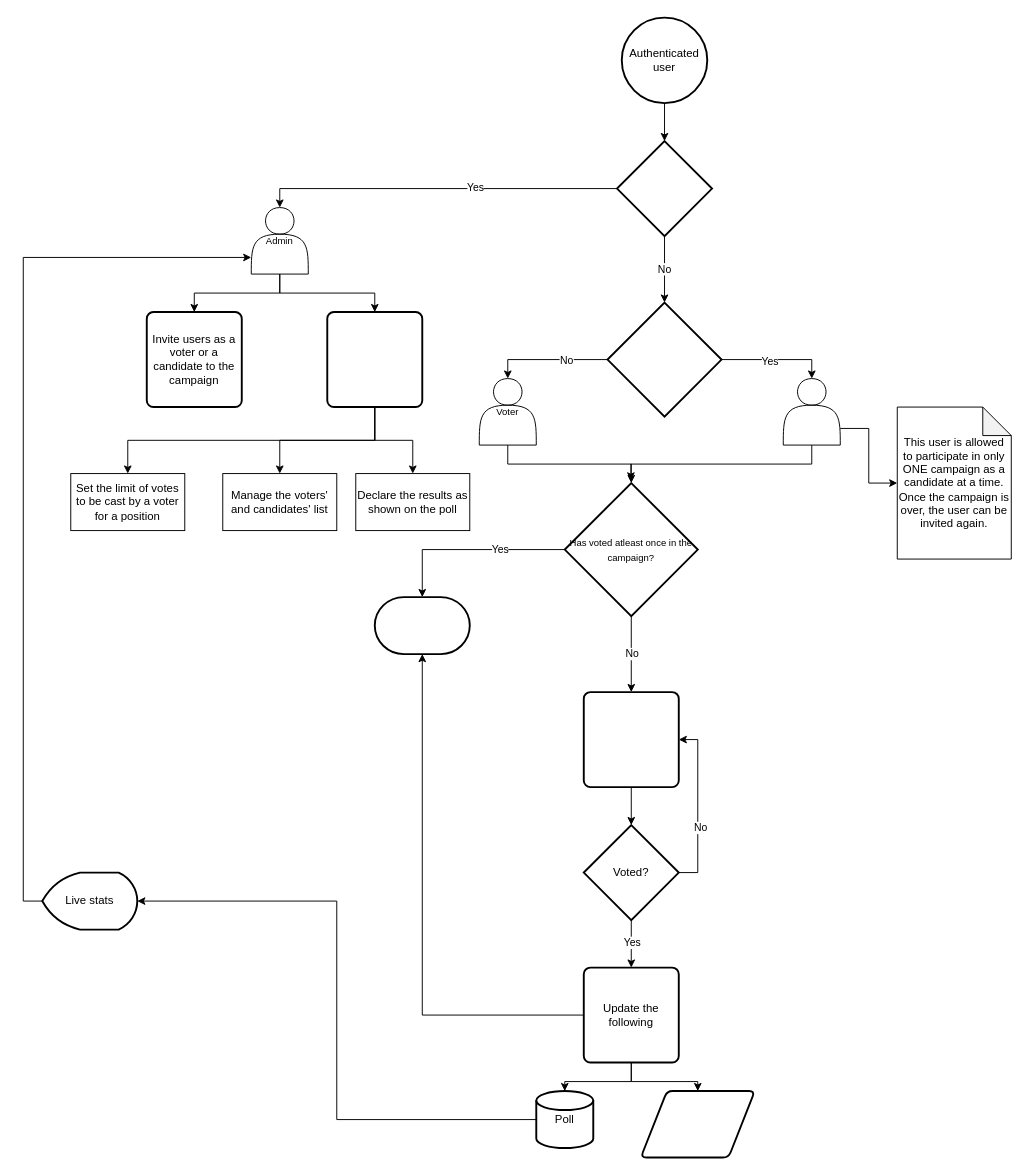
The diagram is 1028 pixels wide and 1174 high, and some of its shapes have lost their labels. Each missing label, with the centre of its shape:
Administer the campaign: the point at 374,359
Candidate: the point at 811,411
Decrement vote count set for the user: the point at 697,1124
Has created a campaign?: the point at 664,188
Is invited to stand in a campaign?: the point at 664,359
Show list of candidates and ask for a vote: the point at 630,739
Show the list of candidates they have voted for.: the point at 421,625
